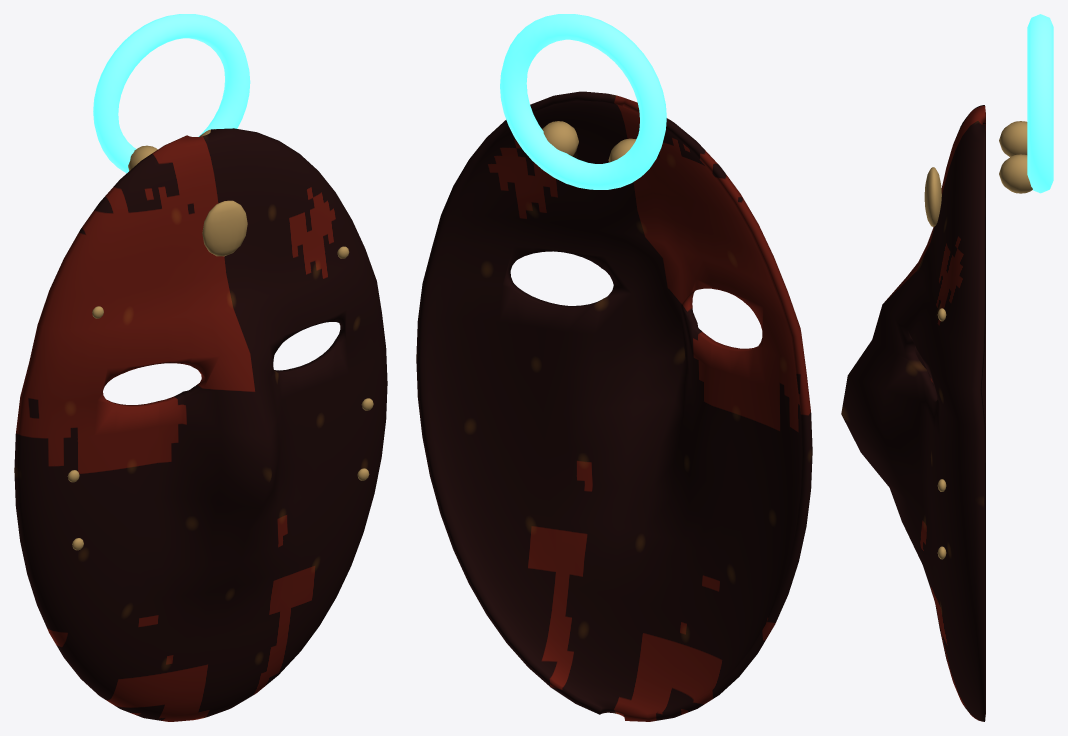
The model's file is mask_pattern_cinnabar.fbx.
3 renders of one model, left to right at view 1: azimuth 30°, elevation 25°; view 2: azimuth 150°, elevation 25°; view 3: azimuth 270°, elevation 25°, orthographic. The views are drawn at different scales.
Visible parts, largest first — view 1: Reviewed_mask_Body.006, TH_S_Mask_Handle.008; view 2: Reviewed_mask_Body.006, TH_S_Mask_Handle.008; view 3: Reviewed_mask_Body.006, TH_S_Mask_Handle.008.
Part boxes in pixels (<box>): Reviewed_mask_Body.006: <box>14,128,387,721</box>; TH_S_Mask_Handle.008: <box>93,14,250,173</box>; Reviewed_mask_Body.006: <box>416,91,812,721</box>; TH_S_Mask_Handle.008: <box>500,14,666,189</box>; Reviewed_mask_Body.006: <box>841,105,1032,721</box>; TH_S_Mask_Handle.008: <box>1027,14,1053,193</box>.
Size of the model in its own units: 0.1968 by 0.3452 by 0.097.
3 materials, 1 textured.
